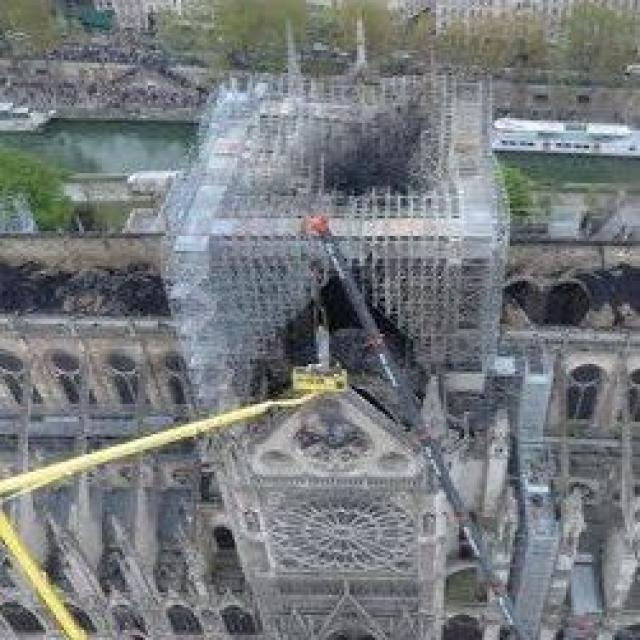collapsed_building: (173, 85, 502, 635)
